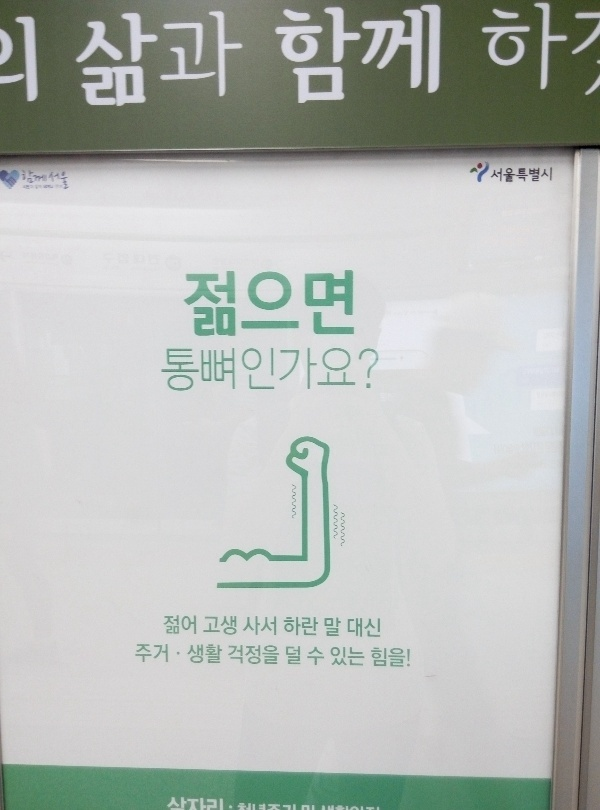text: (81, 5, 96, 114), (97, 5, 112, 114), (113, 5, 128, 114), (129, 5, 144, 114), (145, 5, 160, 114), (161, 5, 176, 114), (177, 5, 192, 114), (193, 5, 208, 114), (209, 5, 224, 114), (225, 5, 240, 114), (273, 1, 288, 109), (289, 1, 304, 109), (305, 1, 320, 109), (321, 1, 336, 109), (337, 1, 352, 109), (353, 1, 368, 109), (369, 1, 384, 109), (385, 1, 400, 109), (401, 1, 416, 109), (417, 1, 432, 109), (1, 12, 16, 111), (17, 12, 32, 111), (481, 1, 496, 100), (497, 1, 512, 100), (513, 1, 528, 100), (529, 1, 544, 100), (545, 1, 560, 100), (561, 1, 576, 100), (577, 1, 592, 100), (433, 1, 443, 109), (193, 269, 208, 339), (209, 269, 224, 339), (225, 269, 240, 339), (241, 269, 256, 339), (257, 269, 272, 339), (273, 269, 288, 339), (289, 269, 304, 339), (305, 269, 320, 339), (321, 269, 336, 339), (337, 269, 352, 339), (33, 12, 41, 111), (177, 345, 192, 394), (193, 345, 208, 394), (209, 345, 224, 394), (225, 345, 240, 394), (241, 345, 256, 394), (257, 345, 272, 394), (273, 345, 288, 394), (289, 345, 304, 394), (305, 345, 320, 394), (321, 345, 336, 394), (337, 345, 352, 394), (353, 345, 368, 394), (593, 1, 600, 100), (369, 345, 381, 394), (165, 345, 176, 394), (185, 269, 192, 339), (33, 168, 48, 192), (49, 168, 64, 192), (177, 613, 192, 637), (209, 614, 224, 638), (225, 614, 239, 638), (257, 615, 272, 637), (385, 646, 400, 668), (77, 5, 80, 114), (241, 5, 244, 114), (289, 616, 304, 637), (353, 617, 368, 638), (145, 643, 160, 664), (193, 643, 208, 664), (163, 613, 176, 637), (241, 645, 256, 665), (257, 645, 272, 665), (337, 646, 352, 666), (305, 616, 319, 637), (20, 168, 32, 192), (371, 646, 384, 668), (209, 643, 222, 664), (244, 615, 256, 637), (324, 616, 336, 638), (497, 166, 512, 183), (513, 166, 528, 183), (529, 166, 544, 183), (369, 617, 381, 638), (228, 645, 240, 665), (353, 646, 365, 666), (289, 646, 301, 665), (309, 646, 320, 666), (401, 646, 411, 668), (353, 269, 356, 339), (177, 796, 192, 810), (193, 796, 208, 810), (209, 796, 224, 810), (225, 796, 240, 810), (241, 796, 256, 810), (257, 796, 272, 810), (273, 796, 288, 810), (289, 796, 304, 810), (305, 796, 320, 810), (321, 796, 336, 810), (337, 796, 352, 810), (353, 796, 368, 810), (161, 643, 169, 664), (369, 796, 381, 810), (137, 643, 144, 664), (65, 168, 71, 192), (545, 166, 553, 183), (193, 613, 198, 637), (273, 645, 279, 665), (330, 646, 336, 666), (337, 616, 342, 638), (283, 616, 288, 637), (169, 796, 176, 810), (273, 615, 277, 637), (348, 617, 352, 638), (188, 643, 192, 664), (321, 646, 325, 666), (205, 614, 208, 638), (493, 166, 496, 183), (286, 646, 288, 665)
